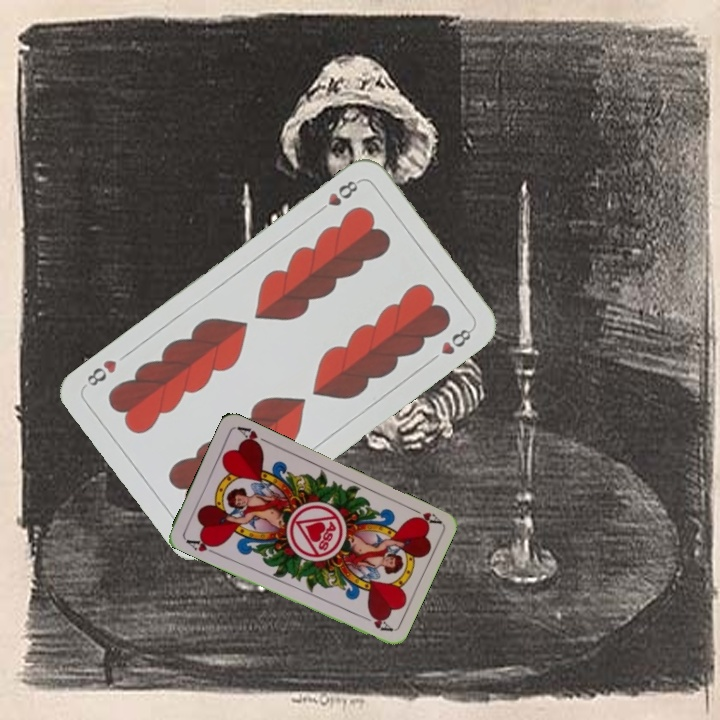H8: (312, 176, 363, 217)
HA: (404, 503, 443, 528), (182, 533, 222, 557)
